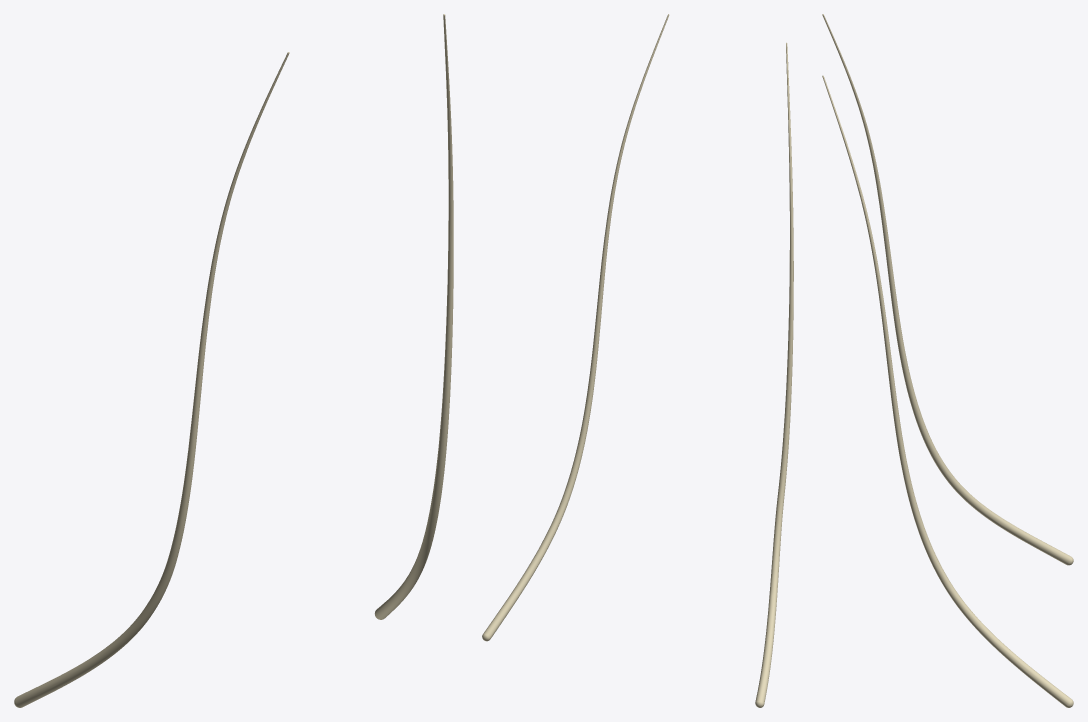
File: bodyparts3d-arterial-pelvic.glb
3 renders of one model, left to right at view 1: azimuth 30°, elevation 25°; view 2: azimuth 150°, elevation 25°; view 3: azimuth 270°, elevation 25°, orthographic. The views are drawn at different scales.
Parts seen in each view (by area): view 1: arterial-fma20688, arterial-fma20689; view 2: arterial-fma20689, arterial-fma20688; view 3: arterial-fma20689, arterial-fma20688.
Boxes of the visible parts, <box> form: arterial-fma20688: <box>14,52,289,707</box>; arterial-fma20689: <box>374,14,453,619</box>; arterial-fma20689: <box>482,14,669,641</box>; arterial-fma20688: <box>755,42,793,707</box>; arterial-fma20689: <box>822,75,1073,707</box>; arterial-fma20688: <box>822,14,1073,565</box>.
Bounding box in the file's own units: 0.1051 × 0.1998 × 0.0762.
